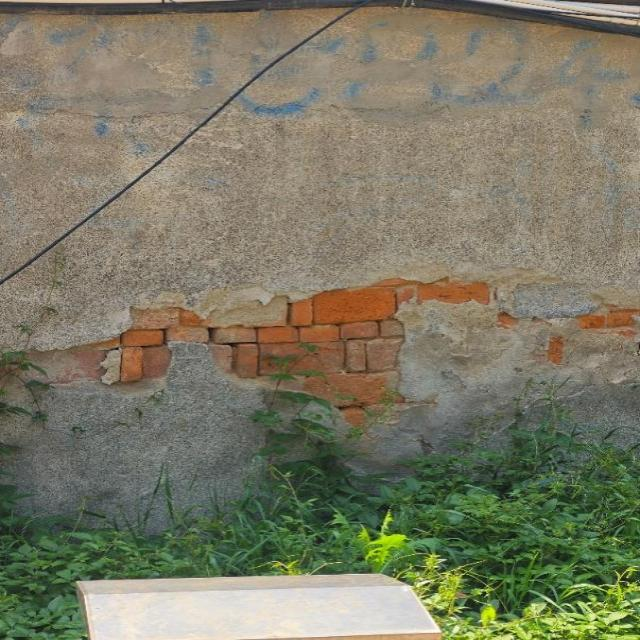spalling: (41, 261, 632, 470)
